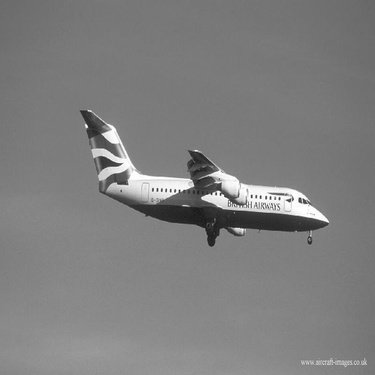airplane: (68, 100, 340, 254)
